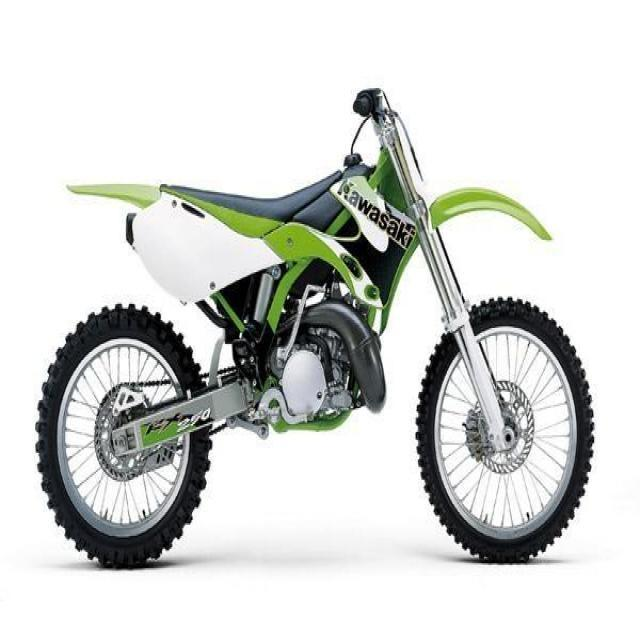Motorcycle: (43, 80, 603, 570)
